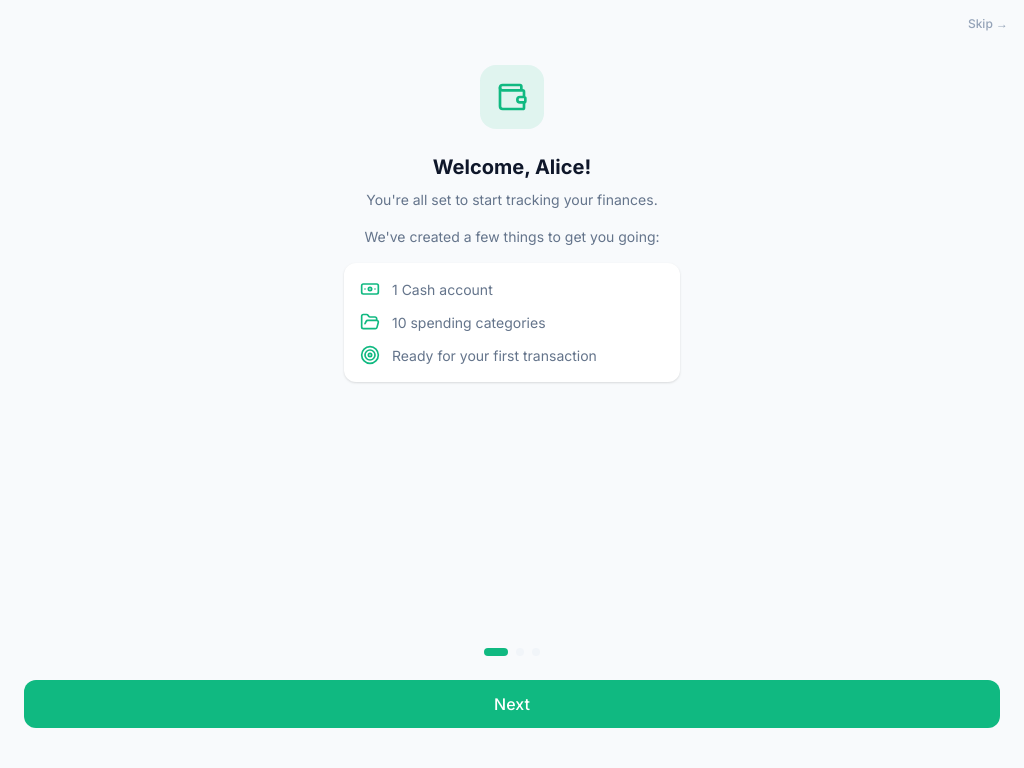
Test case: OnboardingPage › shows Log transaction CTA on Step 3
The image size is (1024, 768).
Click the button with test id "next-btn".
click(512, 704)  # box [24,680,1000,728]
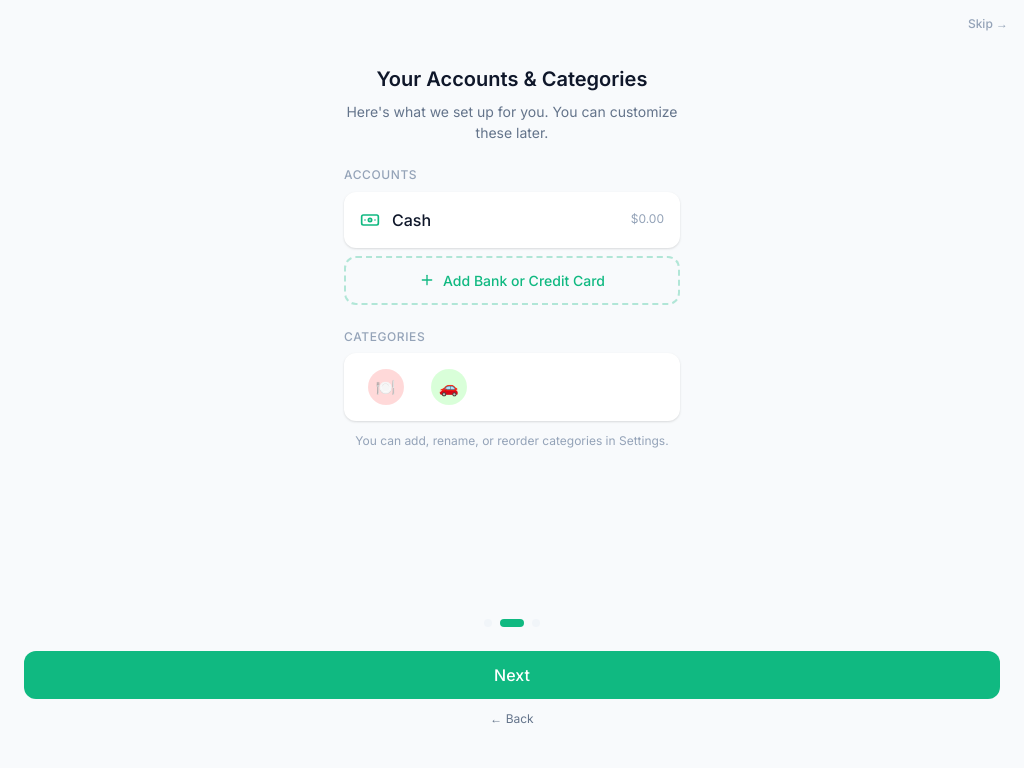
Click the button with test id "next-btn".
click(512, 675)  # box [24,651,1000,699]
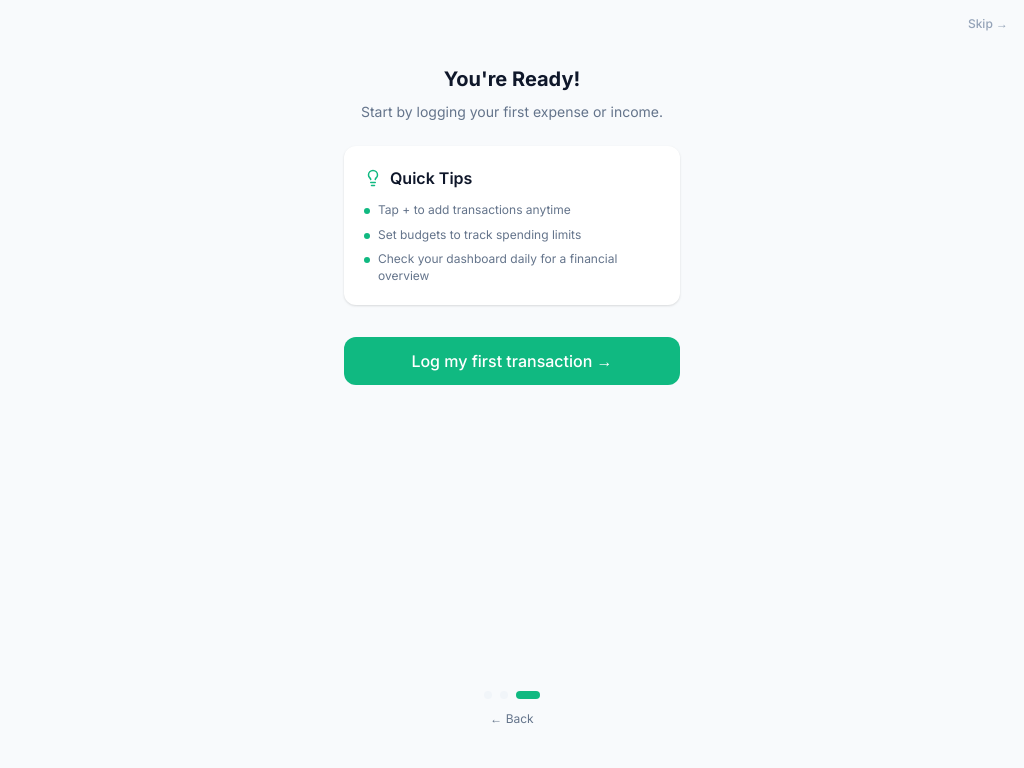
Expected: the button with test id "log-transaction-btn" is shown, [344,337,680,385]
